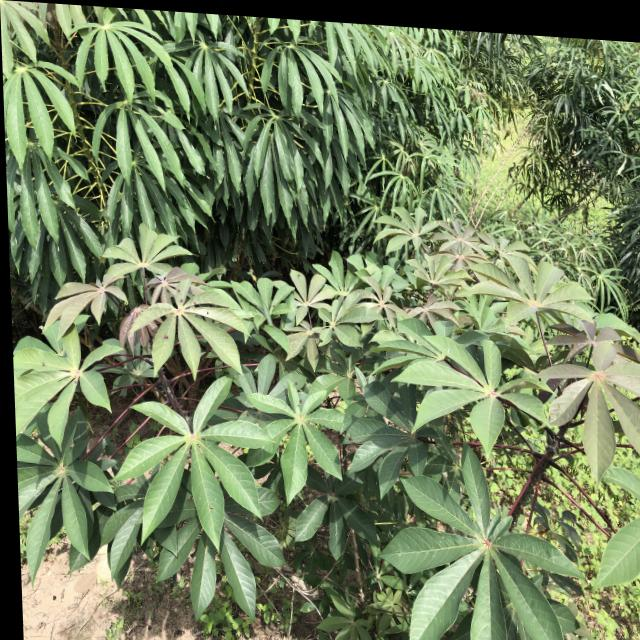Mosca: (50, 311, 68, 325), (202, 306, 215, 322), (205, 501, 218, 514), (162, 331, 171, 343)
